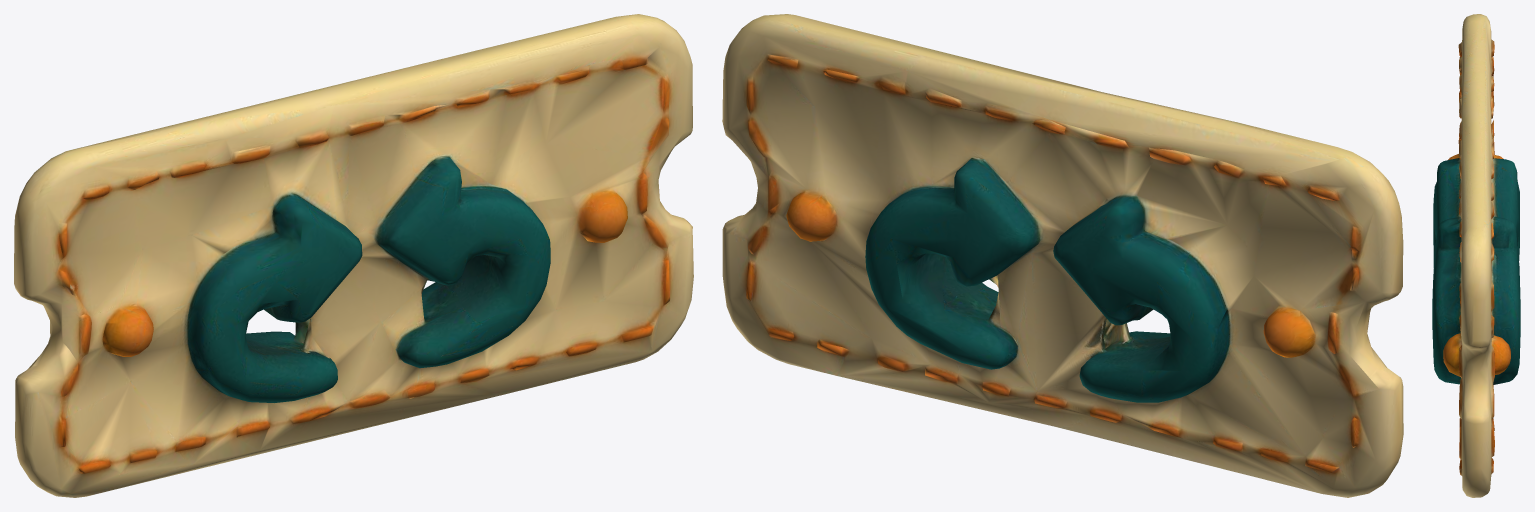
The model's file is item-trade-ticket.glb.
3 views of the same model, side by side, from view 1: azimuth 30°, elevation 25°; view 2: azimuth 150°, elevation 25°; view 3: azimuth 270°, elevation 25° (orthographic). The views are drawn at different scales.
Parts seen in each view (by area): view 1: Mesh_0; view 2: Mesh_0; view 3: Mesh_0.
Boxes of the visible parts, x1,y1,x2,y2 form: Mesh_0: [14, 14, 693, 497]; Mesh_0: [722, 14, 1403, 497]; Mesh_0: [1432, 14, 1520, 497].
Size of the model in its own units: 2 by 0.9789 by 0.2941.
Materials: 1 (1 with a texture image).
